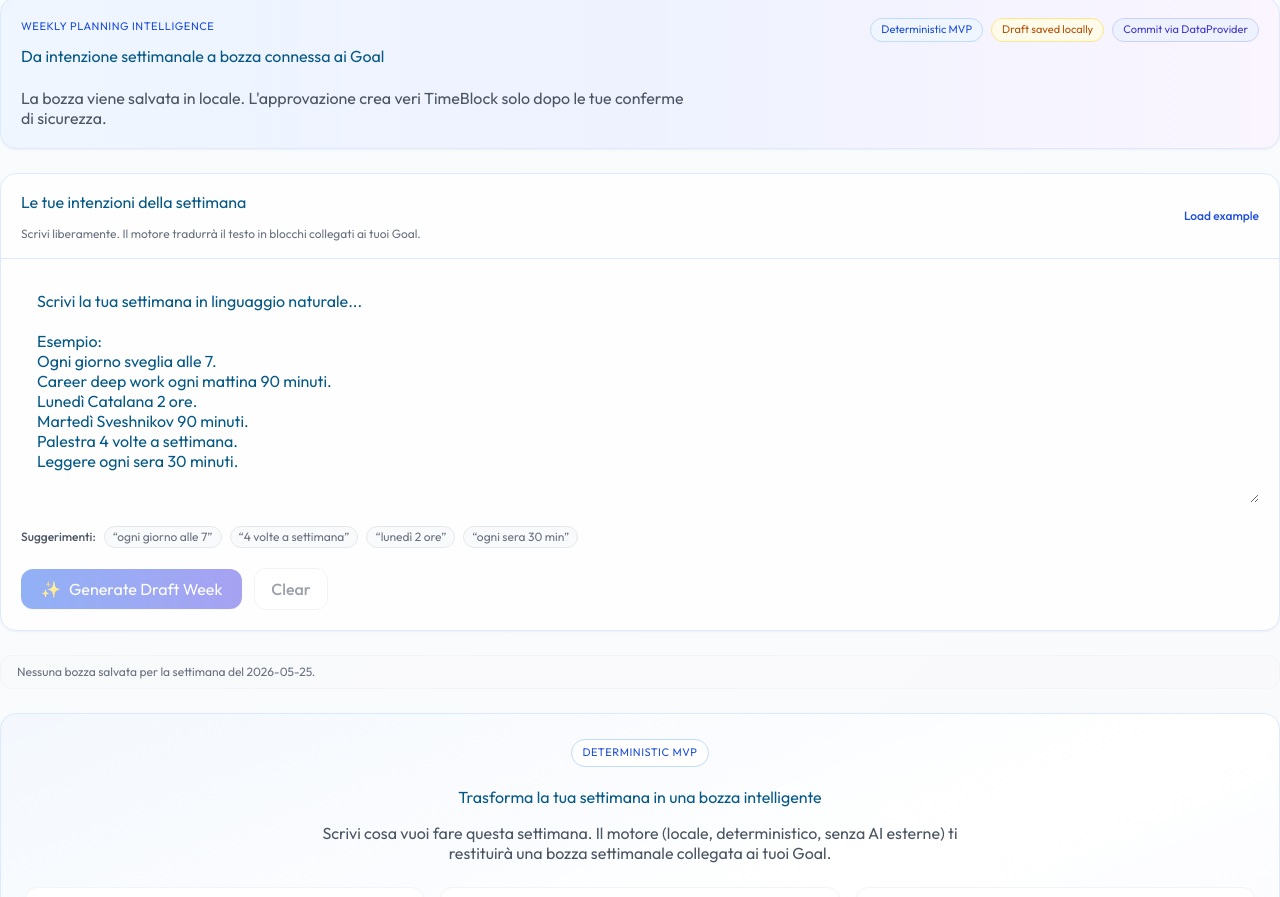
Test: WeeklyPlanningView — review panel › renders the review panel after Generate, in empty-state until WPI blocks exist
The image size is (1280, 897).
Click the button "Load example" at [1221, 216], box [1184,208,1259,224]
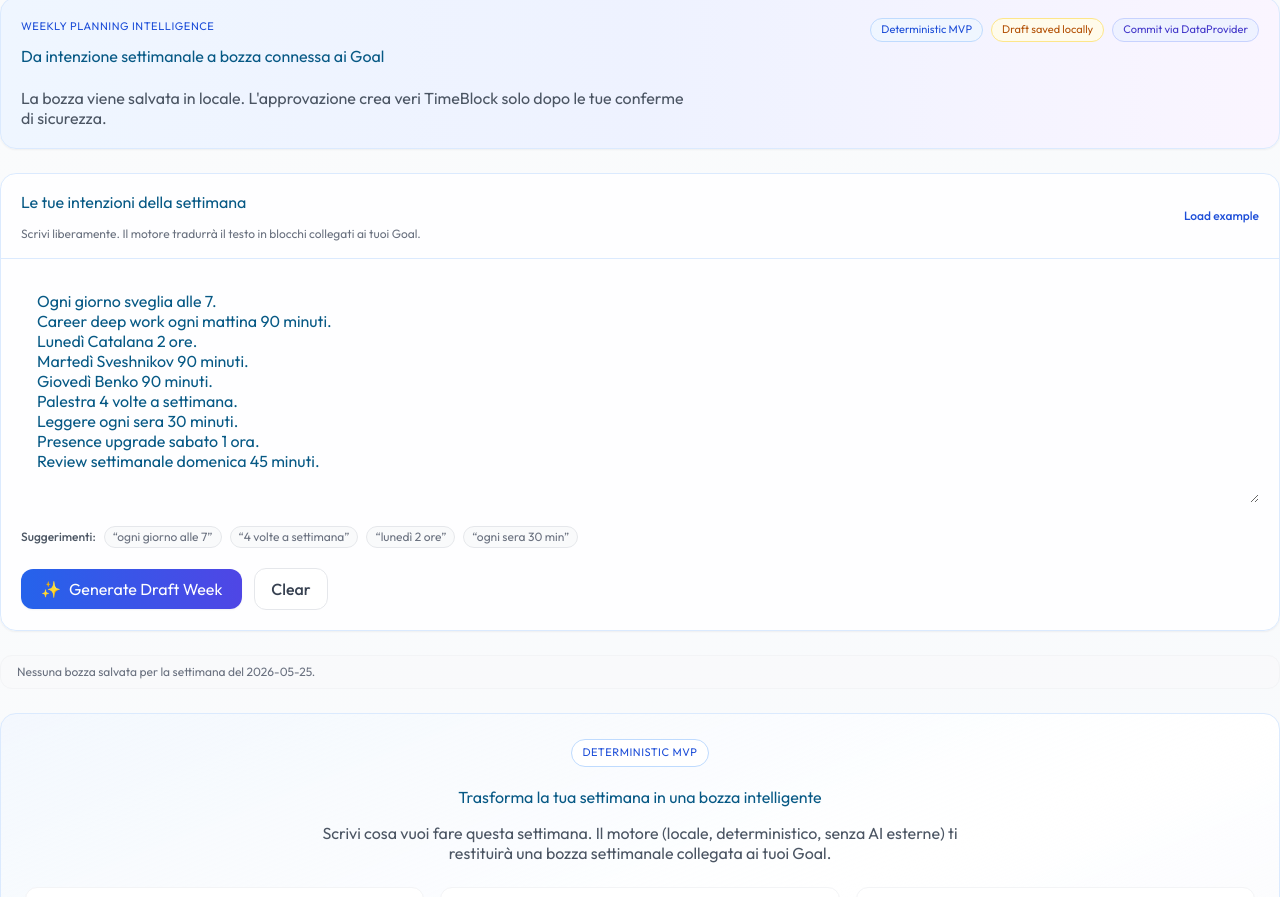
Click the button with test id "weekly-intent-generate" at [132, 589], box [21,569,242,609]
(page scrolled)
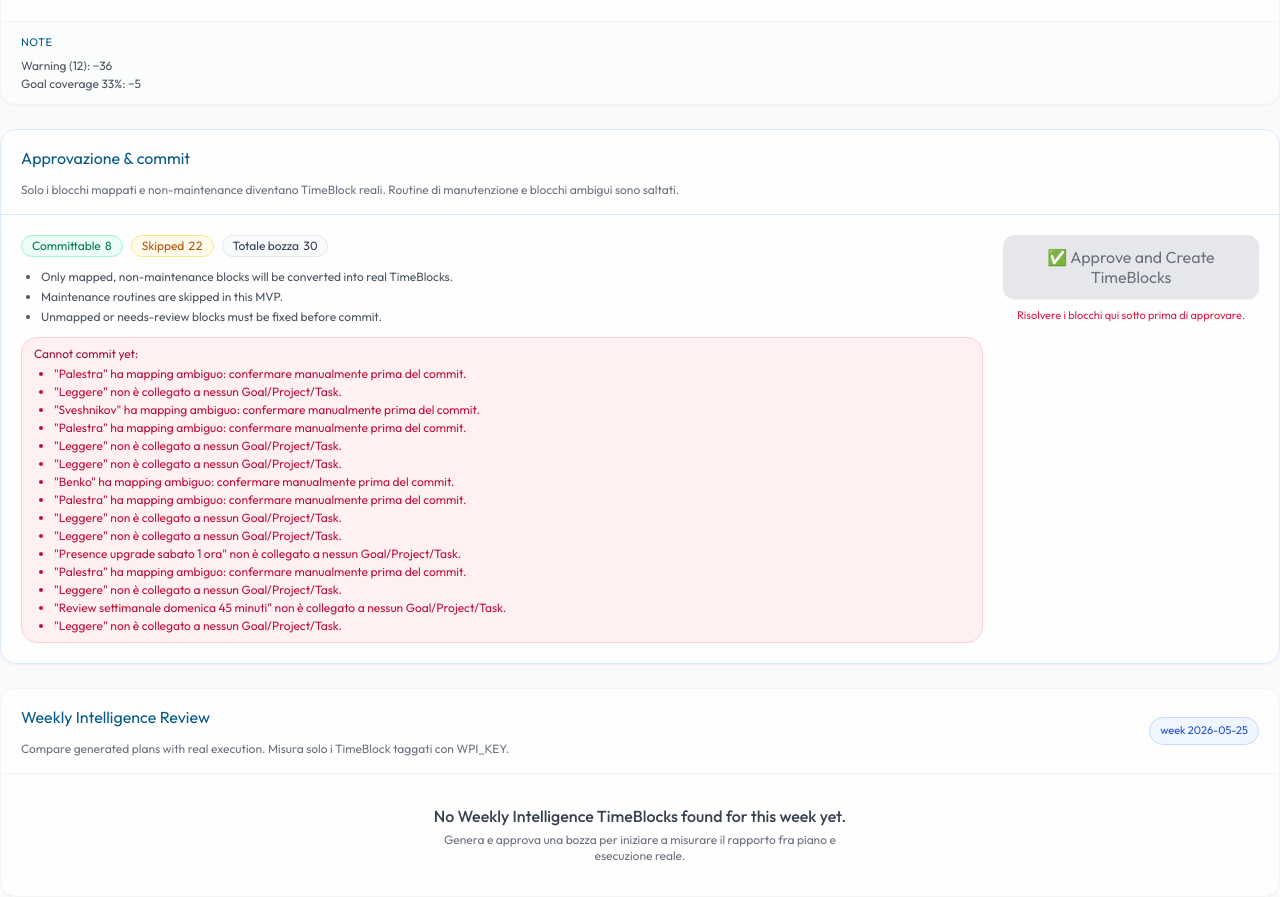
Expected: the element with test id "weekly-intelligence-review-panel" is shown, [0,688,1279,896]
Expected: the element with test id "wpi-review-empty-state" is shown, [434,806,846,863]
